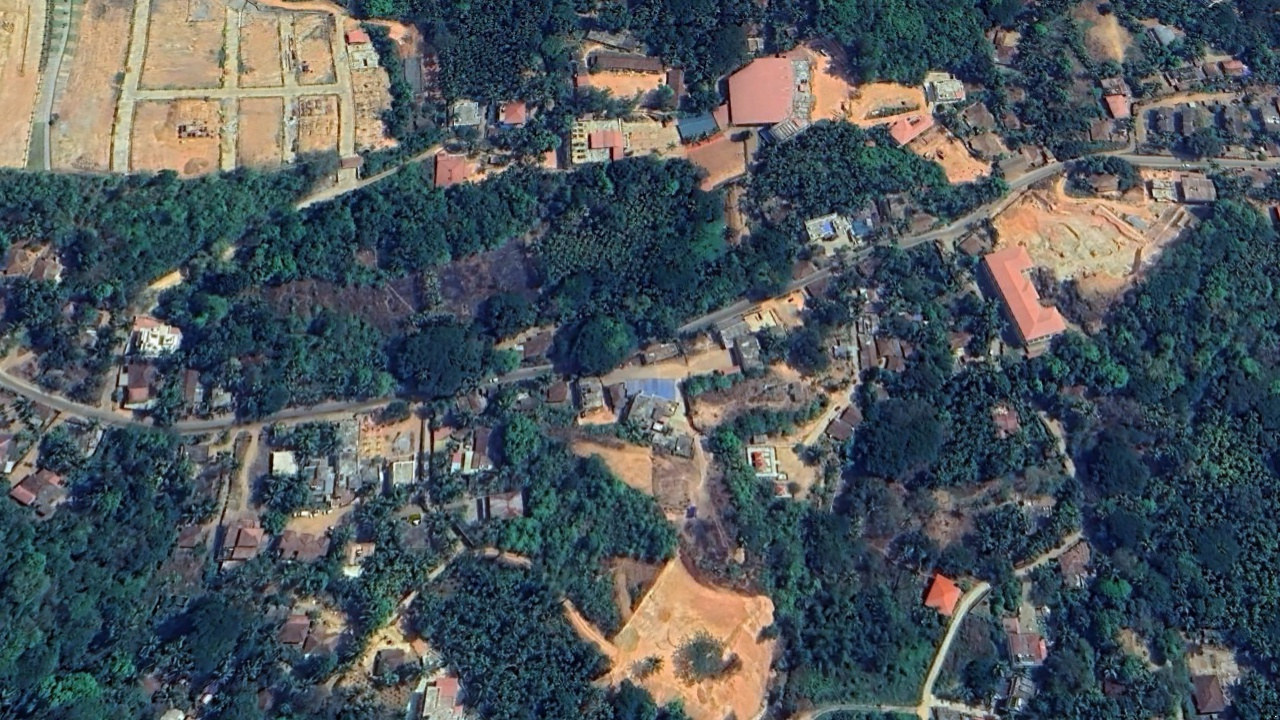arecanut: (536, 188, 693, 282)
